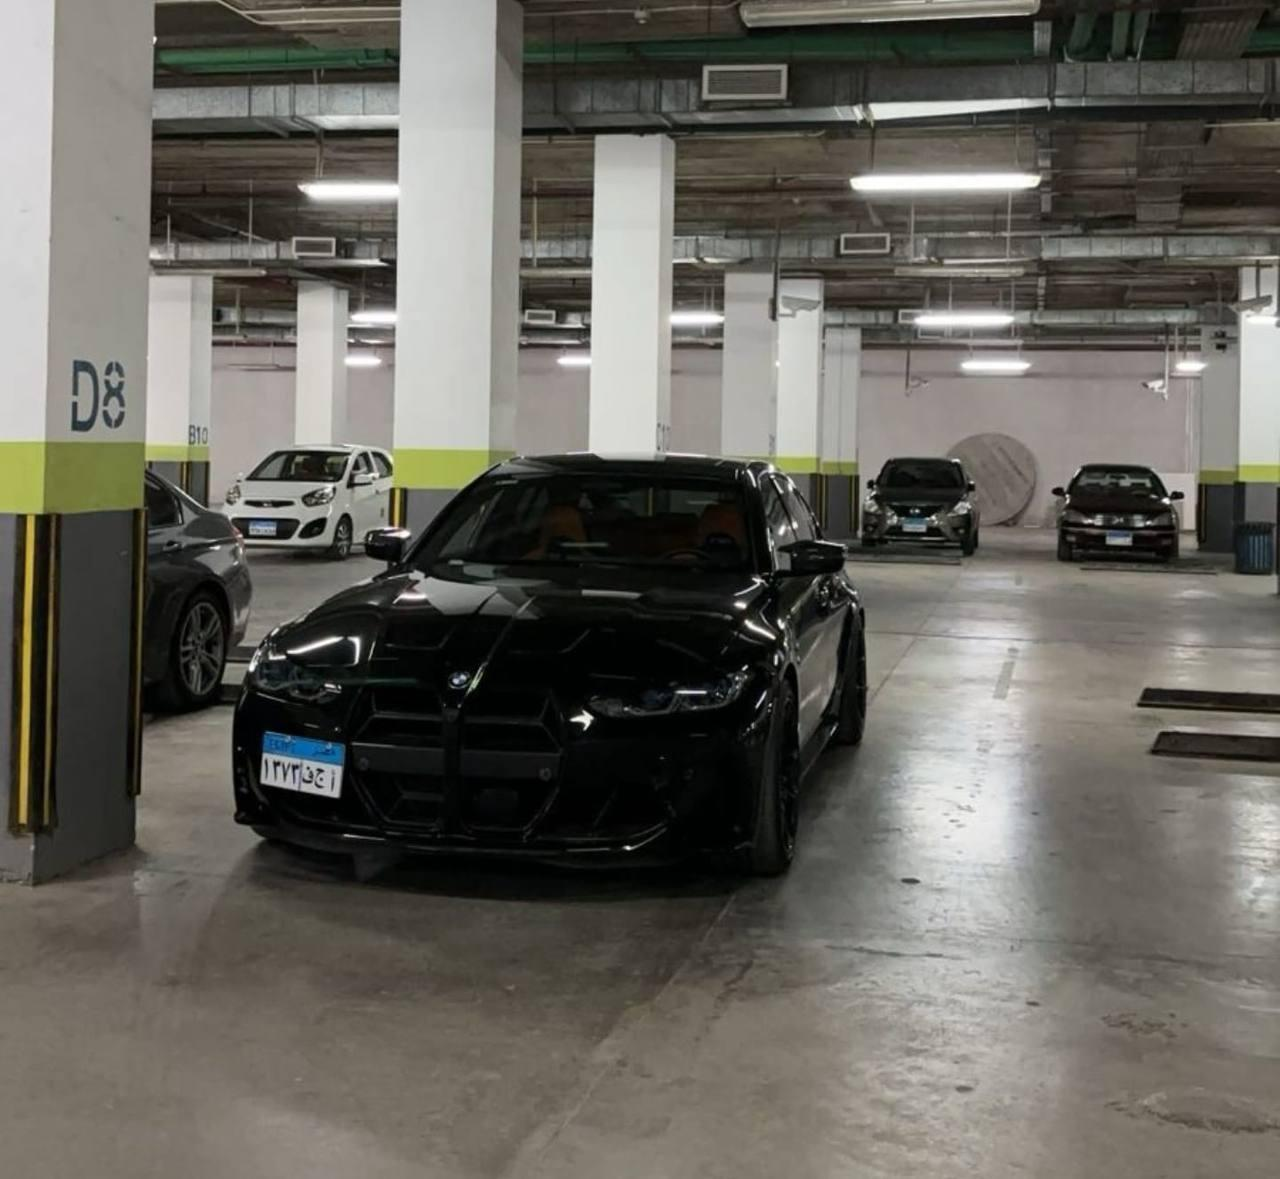1: (262, 756, 272, 782)
3: (272, 758, 282, 780), (290, 762, 300, 784)
7: (279, 758, 292, 781)
F: (302, 766, 314, 785)
License Plate: (256, 728, 346, 800)
alef: (328, 769, 338, 792)
geem: (314, 768, 326, 788)
